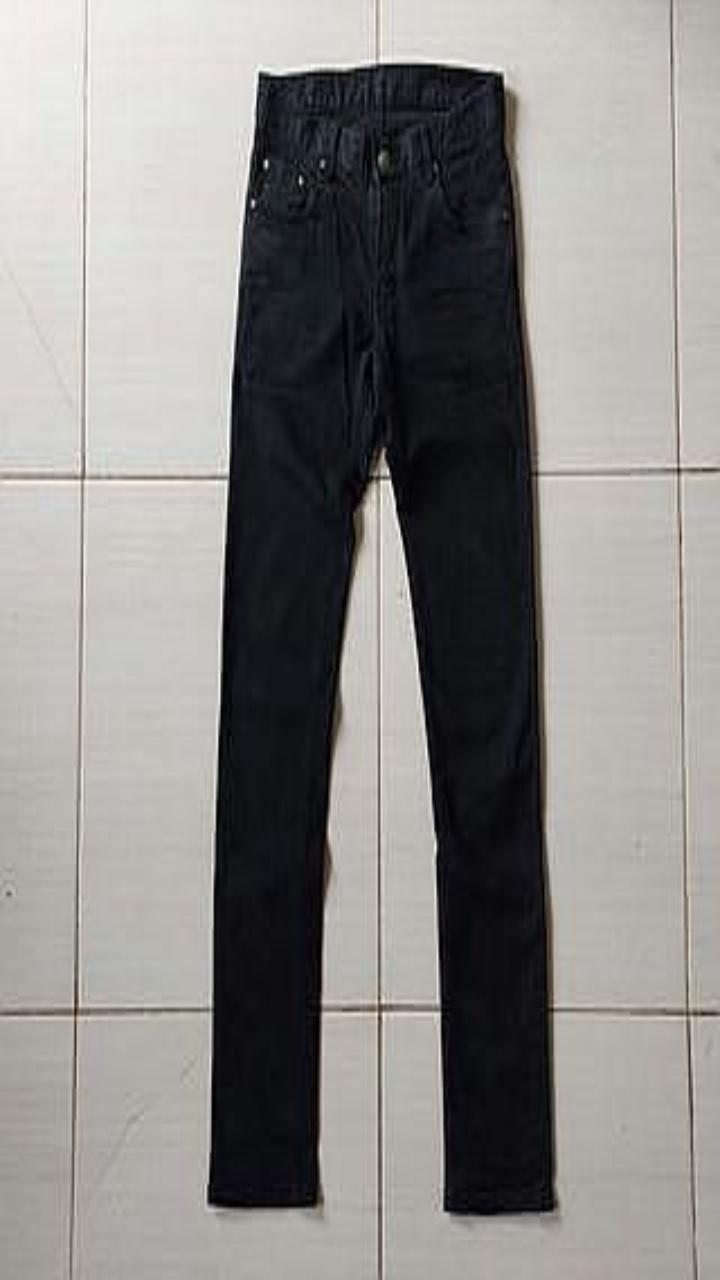Jeans: (207, 63, 553, 1212)
